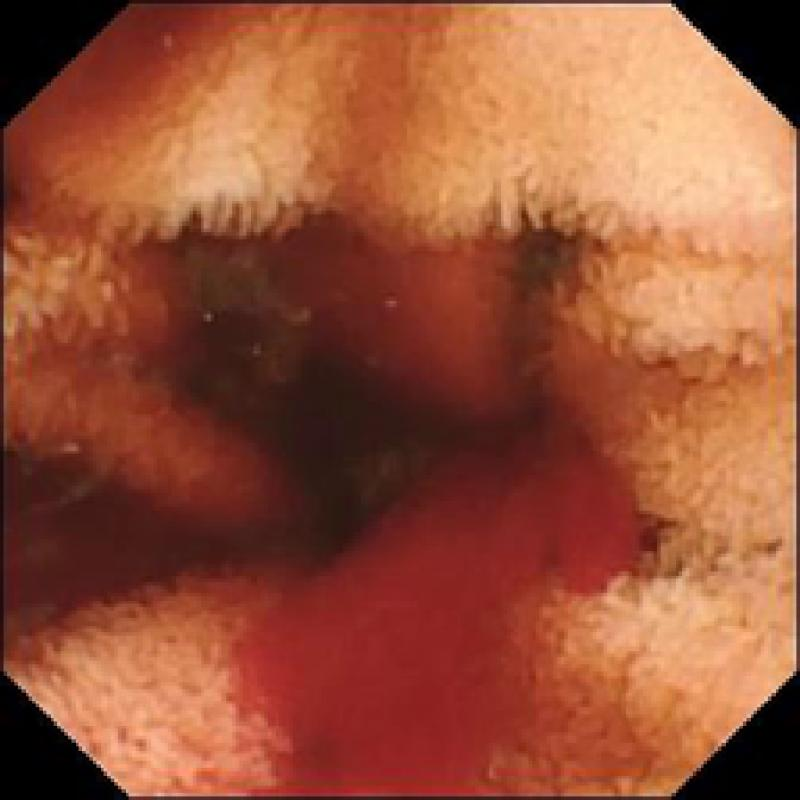bleeding: (257, 229, 622, 789)
